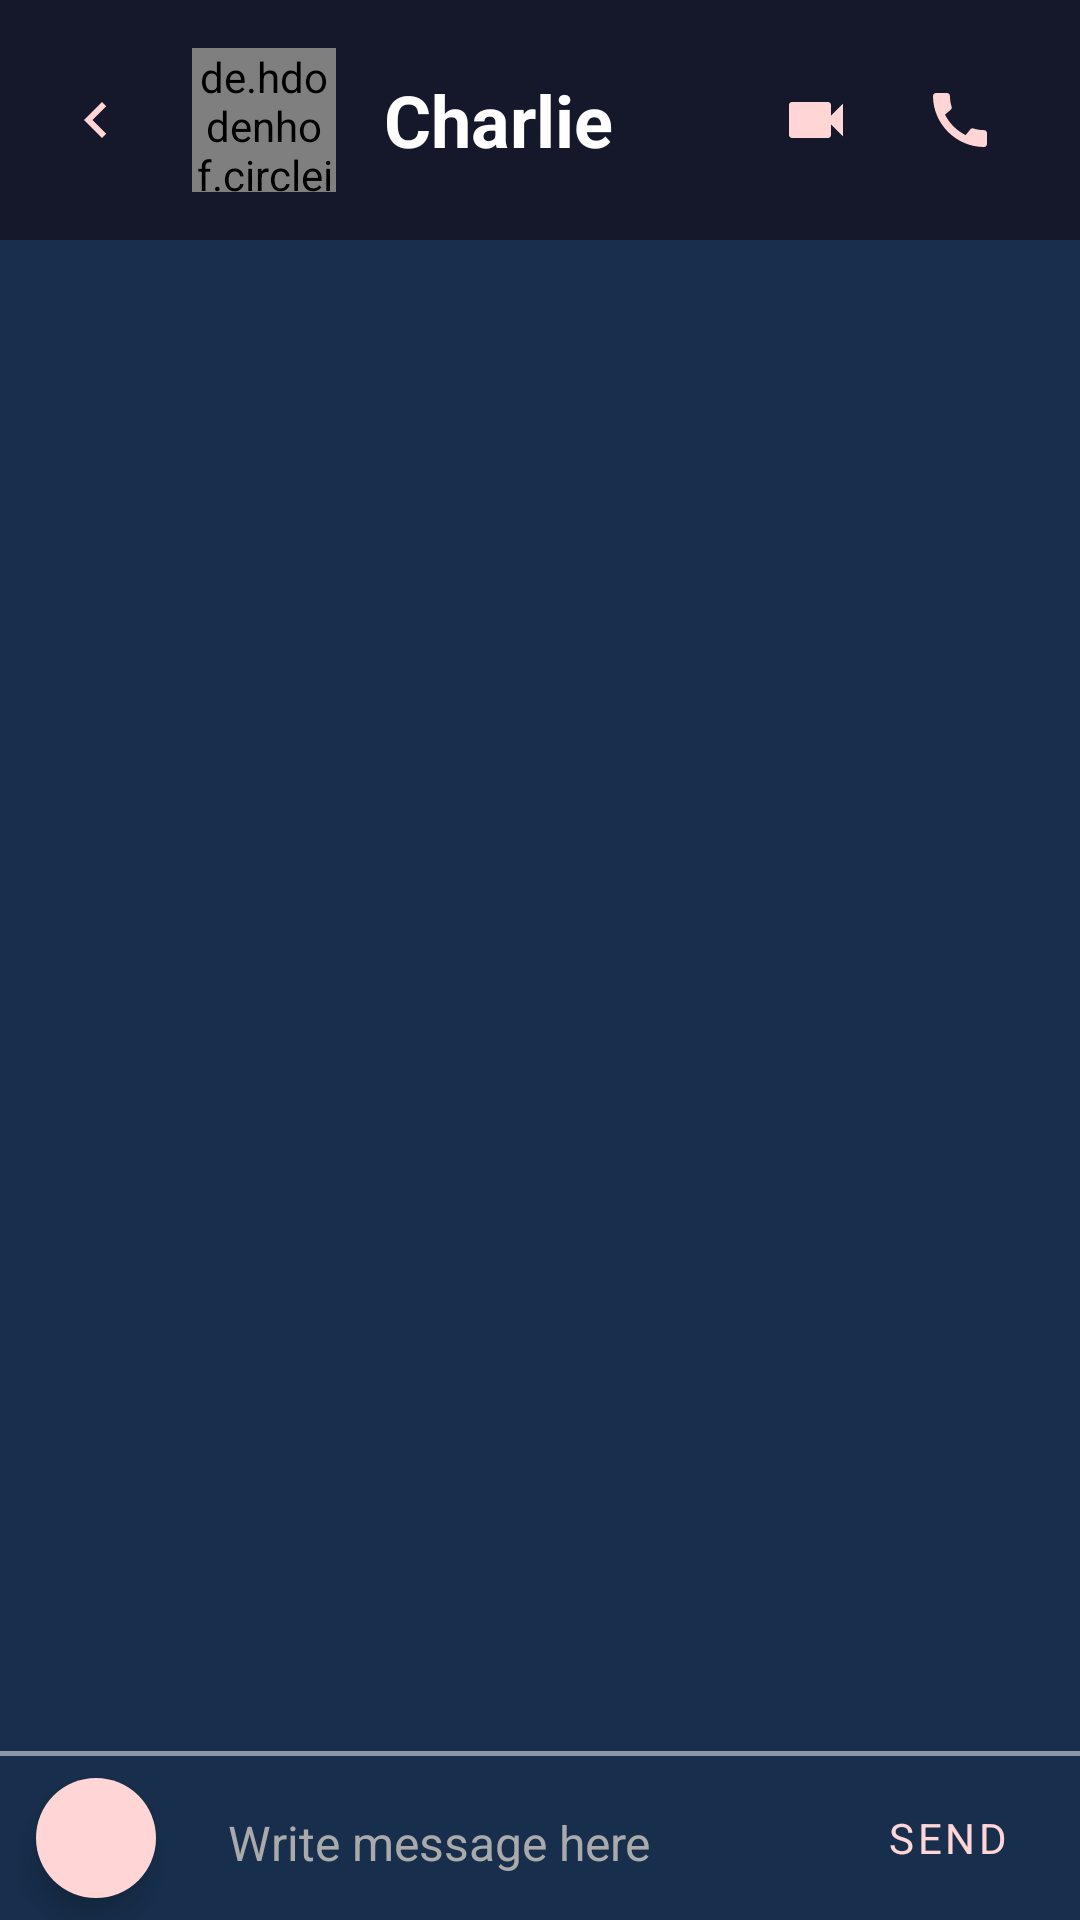

Icon bounding boxes for this 1080 x 1920 phone screenshot, format (x1, y1, x2, y2):
calls: (933, 93, 987, 147)
chevron: (84, 102, 106, 138)
videocam: (789, 102, 843, 138)
